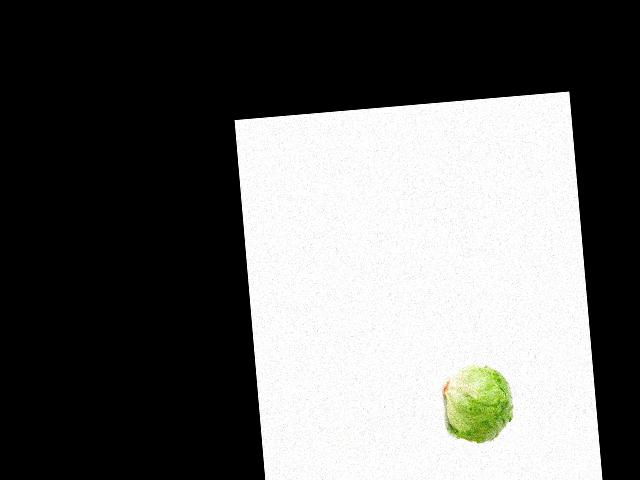lettuce: (443, 366, 516, 445)
